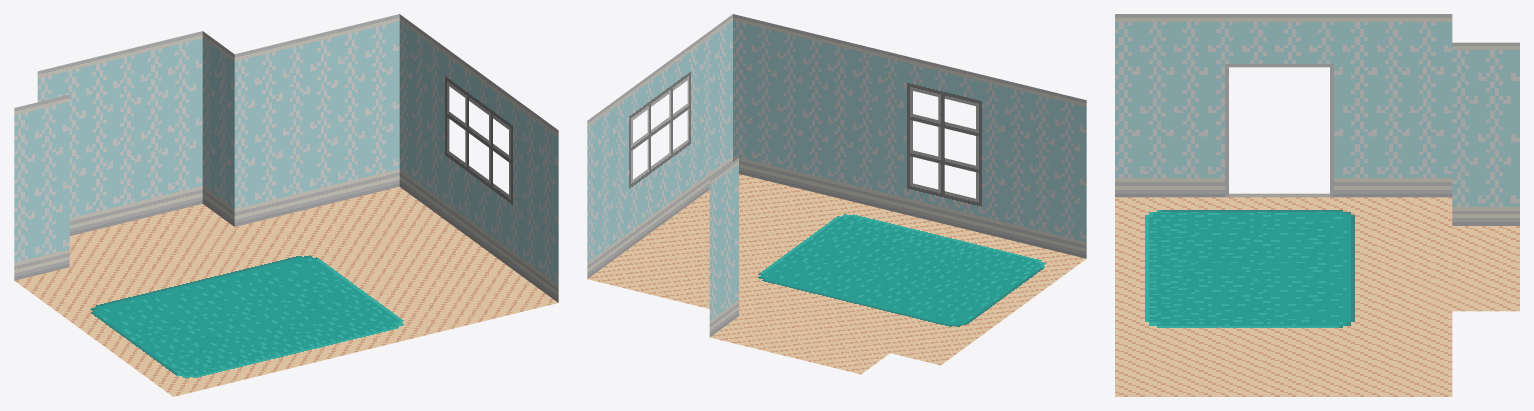
Rendered from venns_room_1.gltf.
3 renders of one model, left to right at view 1: azimuth 30°, elevation 25°; view 2: azimuth 150°, elevation 25°; view 3: azimuth 270°, elevation 25°, orthographic. The views are drawn at different scales.
Parts seen in each view (by area): view 1: default; view 2: default; view 3: default.
Boxes of the visible parts, x1,y1,x2,y2 form: default: (14,14,558,396); default: (587,14,1086,374); default: (1115,14,1519,396).
Bounding box in the file's own units: 7 × 4 × 6.
Materials: 6 (6 with a texture image).
